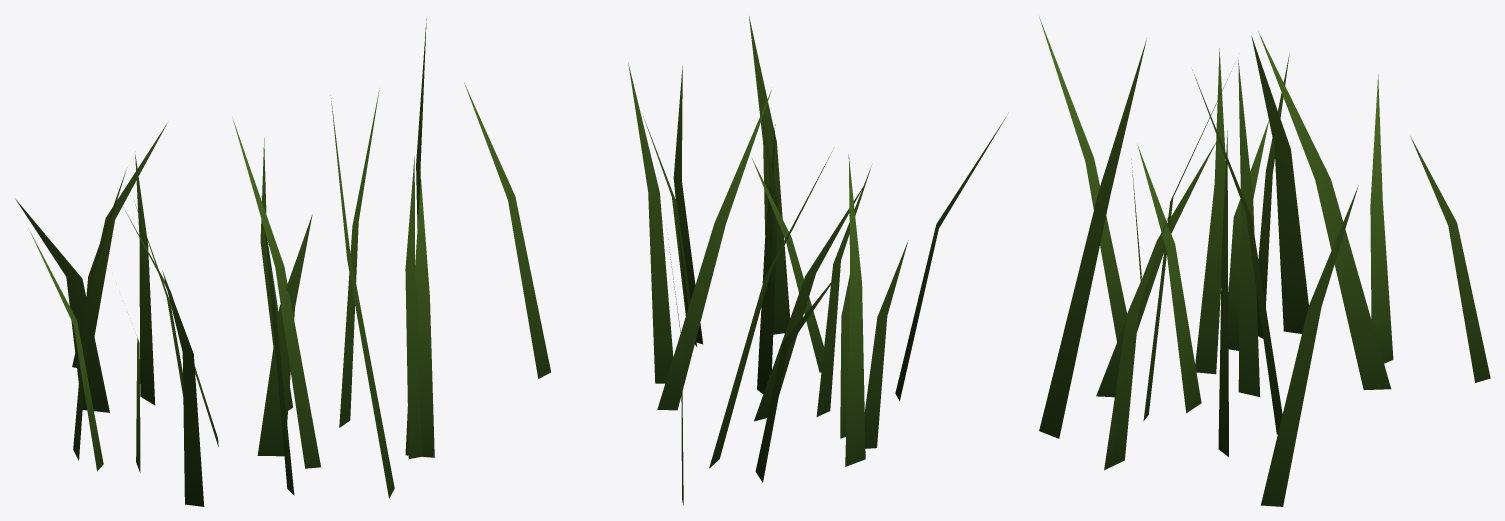
The model's file is tuft_1_lod1.glb.
3 renders of one model, left to right at view 1: azimuth 30°, elevation 25°; view 2: azimuth 150°, elevation 25°; view 3: azimuth 270°, elevation 25°, orthographic. The views are drawn at different scales.
Parts seen in each view (by area): view 1: GrassTuft_1_LOD1; view 2: GrassTuft_1_LOD1; view 3: GrassTuft_1_LOD1.
Part boxes in pixels (x1,y1,x2,y2): GrassTuft_1_LOD1: (15, 18, 434, 506); GrassTuft_1_LOD1: (464, 16, 1007, 505); GrassTuft_1_LOD1: (1039, 16, 1490, 506).
Size of the model in its own units: 0.3507 by 0.2883 by 0.3026.
